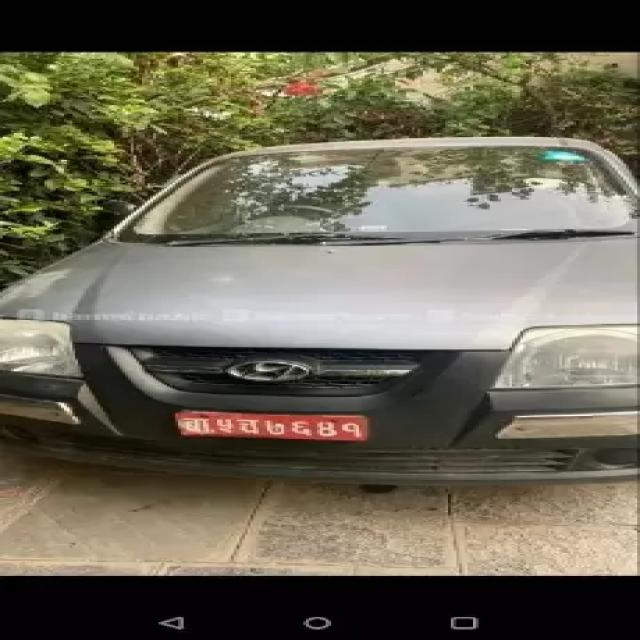License-plate: (175, 401, 378, 452)
